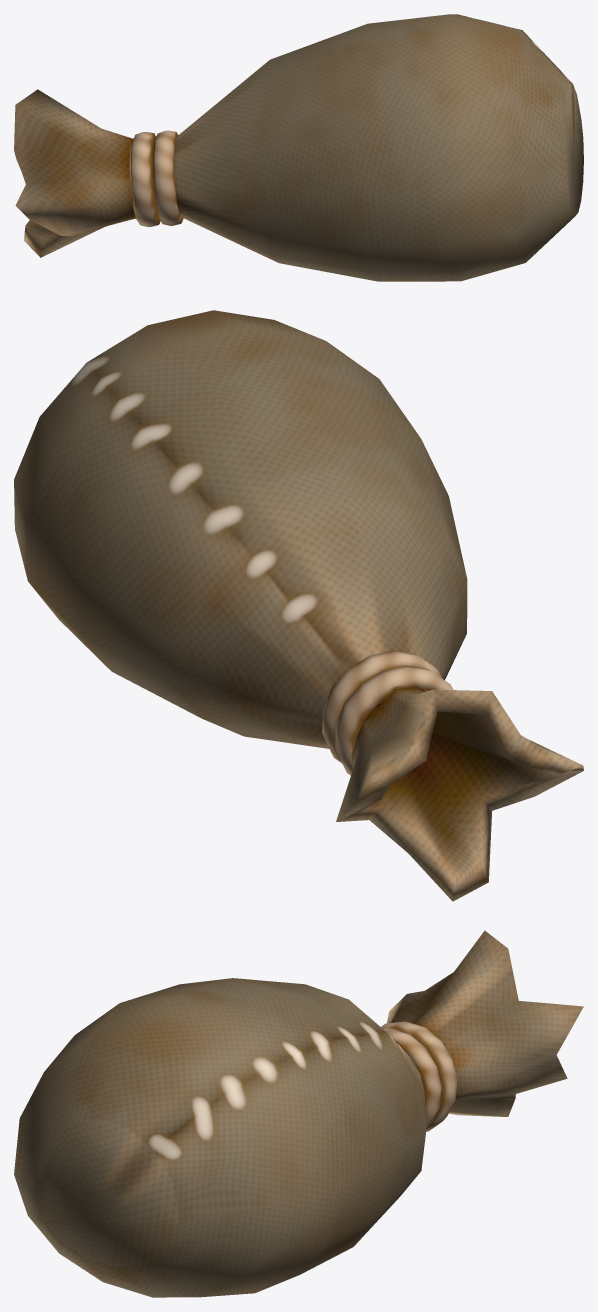
File: Sack_A.fbx
3 views of the same model, one above another, from view 1: azimuth 30°, elevation 25°; view 2: azimuth 150°, elevation 25°; view 3: azimuth 270°, elevation 25° (orthographic). The views are drawn at different scales.
Parts seen in each view (by area): view 1: U_Sack_A; view 2: U_Sack_A; view 3: U_Sack_A.
Boxes of the visible parts, x1=… form: U_Sack_A: x1=14, y1=14, x2=583, y2=281; U_Sack_A: x1=14, y1=310, x2=583, y2=901; U_Sack_A: x1=14, y1=930, x2=583, y2=1297.
Bounding box in the file's own units: 54.12 × 26.13 × 47.49.
1 material, 1 textured.
